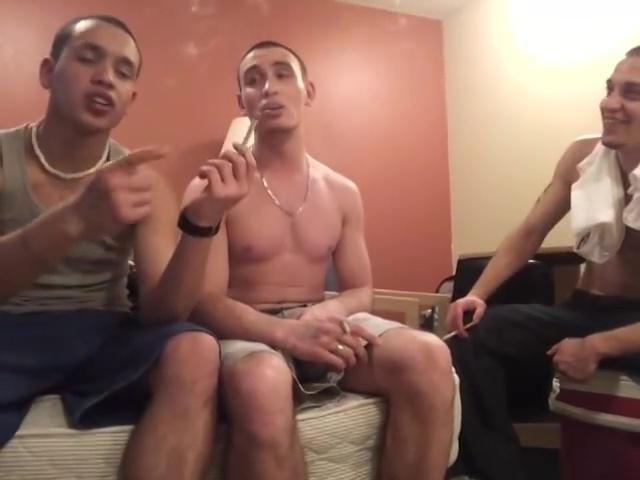cigarette: (240, 115, 260, 148), (441, 323, 475, 340), (336, 316, 355, 337)
